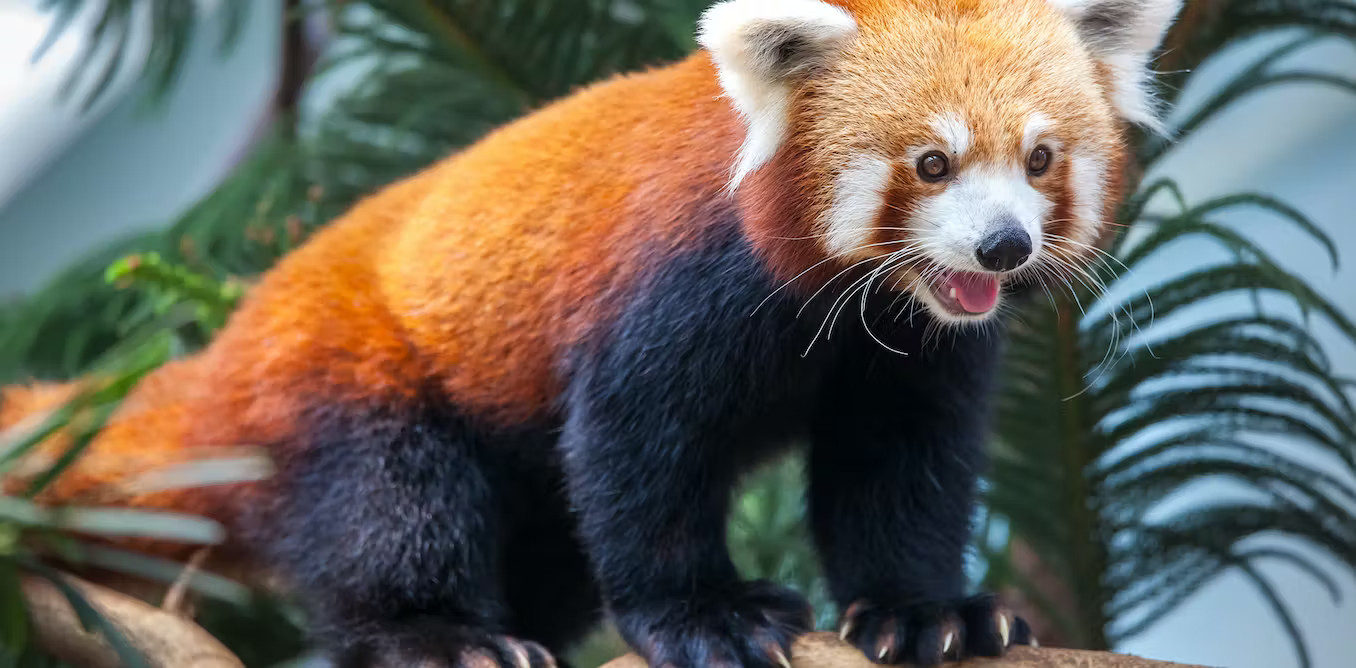Red panda: (696, 0, 1190, 334)
